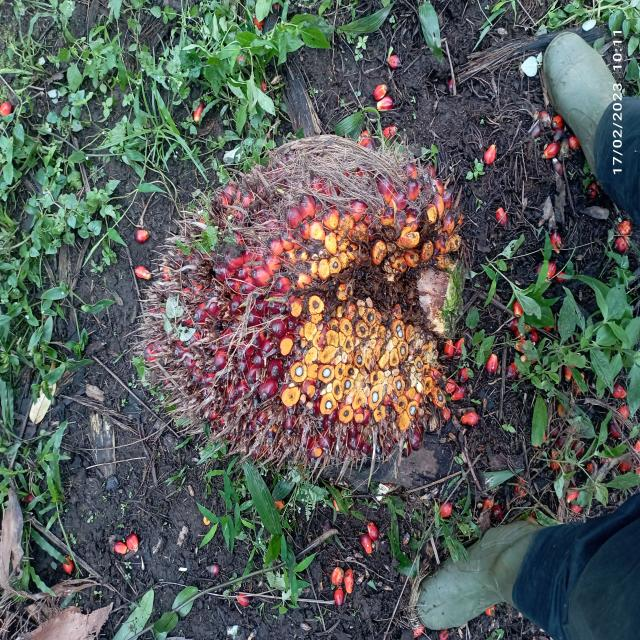fraksi 1: (119, 38, 501, 524)
